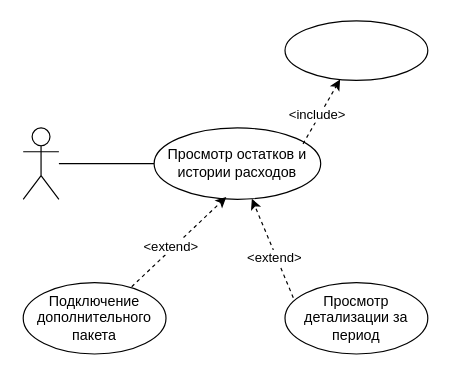
Image size: 449x375. Some labels were removed from this diagram. The shapes that lost their labels are listed below. From the top down, each one's centre as x and y in pixels, then its label:
At (x=356, y=50): "Авторизация в приложении".
At (x=40, y=163): "Елена".
